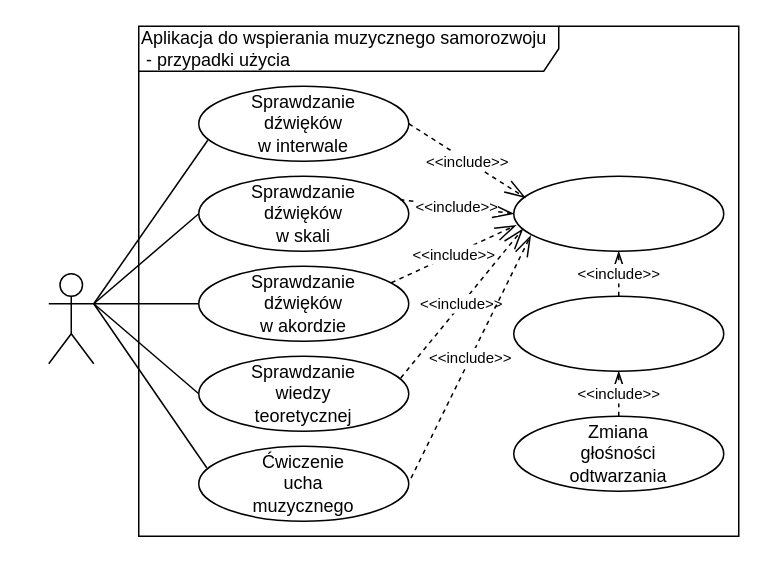
This 765x563 diagram has some shape labels left out. Here are the shapes that lost their labels. From the top down, the centre of each, then its label:
the point at 618,213: Wizualizacja rozstawienia dźwięków na instrumencie
the point at 70,318: Użytkownik
the point at 618,333: Odtwarzanie dźwięków instrumentu
